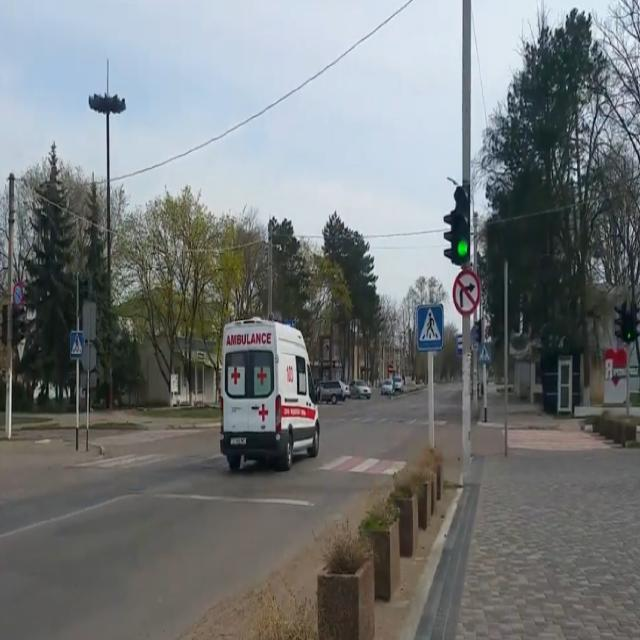ambulance: (221, 316, 321, 474)
non emergency car: (316, 380, 348, 408), (349, 379, 372, 403), (382, 378, 394, 397), (395, 377, 406, 394)
